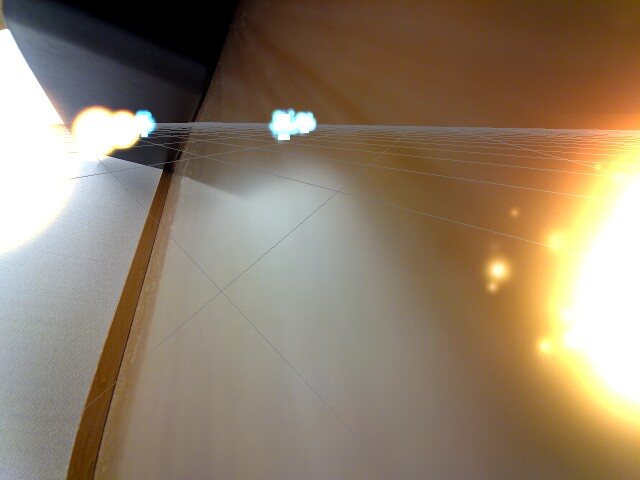firebig: (535, 93, 640, 435)
